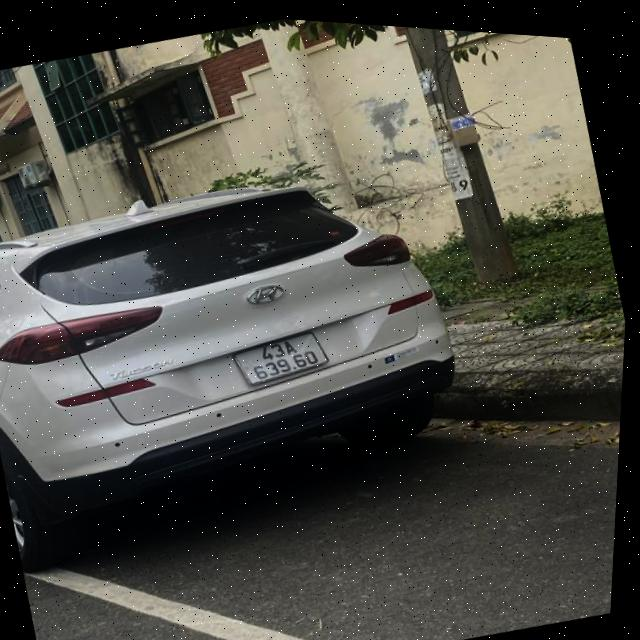car: (0, 124, 491, 581)
plate: (224, 318, 339, 400)
